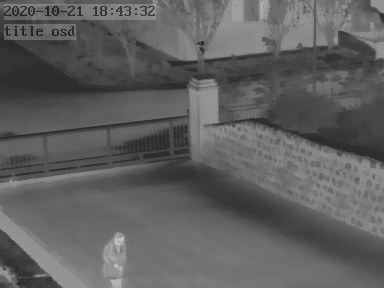person: (101, 228, 127, 288)
